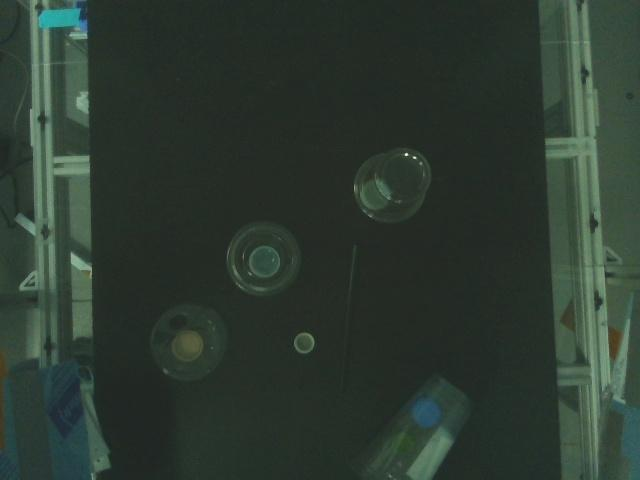plastic: (339, 369, 487, 480), (147, 297, 232, 387), (332, 237, 375, 397), (223, 217, 306, 299), (351, 145, 434, 226), (407, 391, 445, 433), (357, 175, 394, 215), (247, 243, 285, 281), (168, 327, 206, 364), (388, 428, 418, 459), (293, 330, 317, 354)
